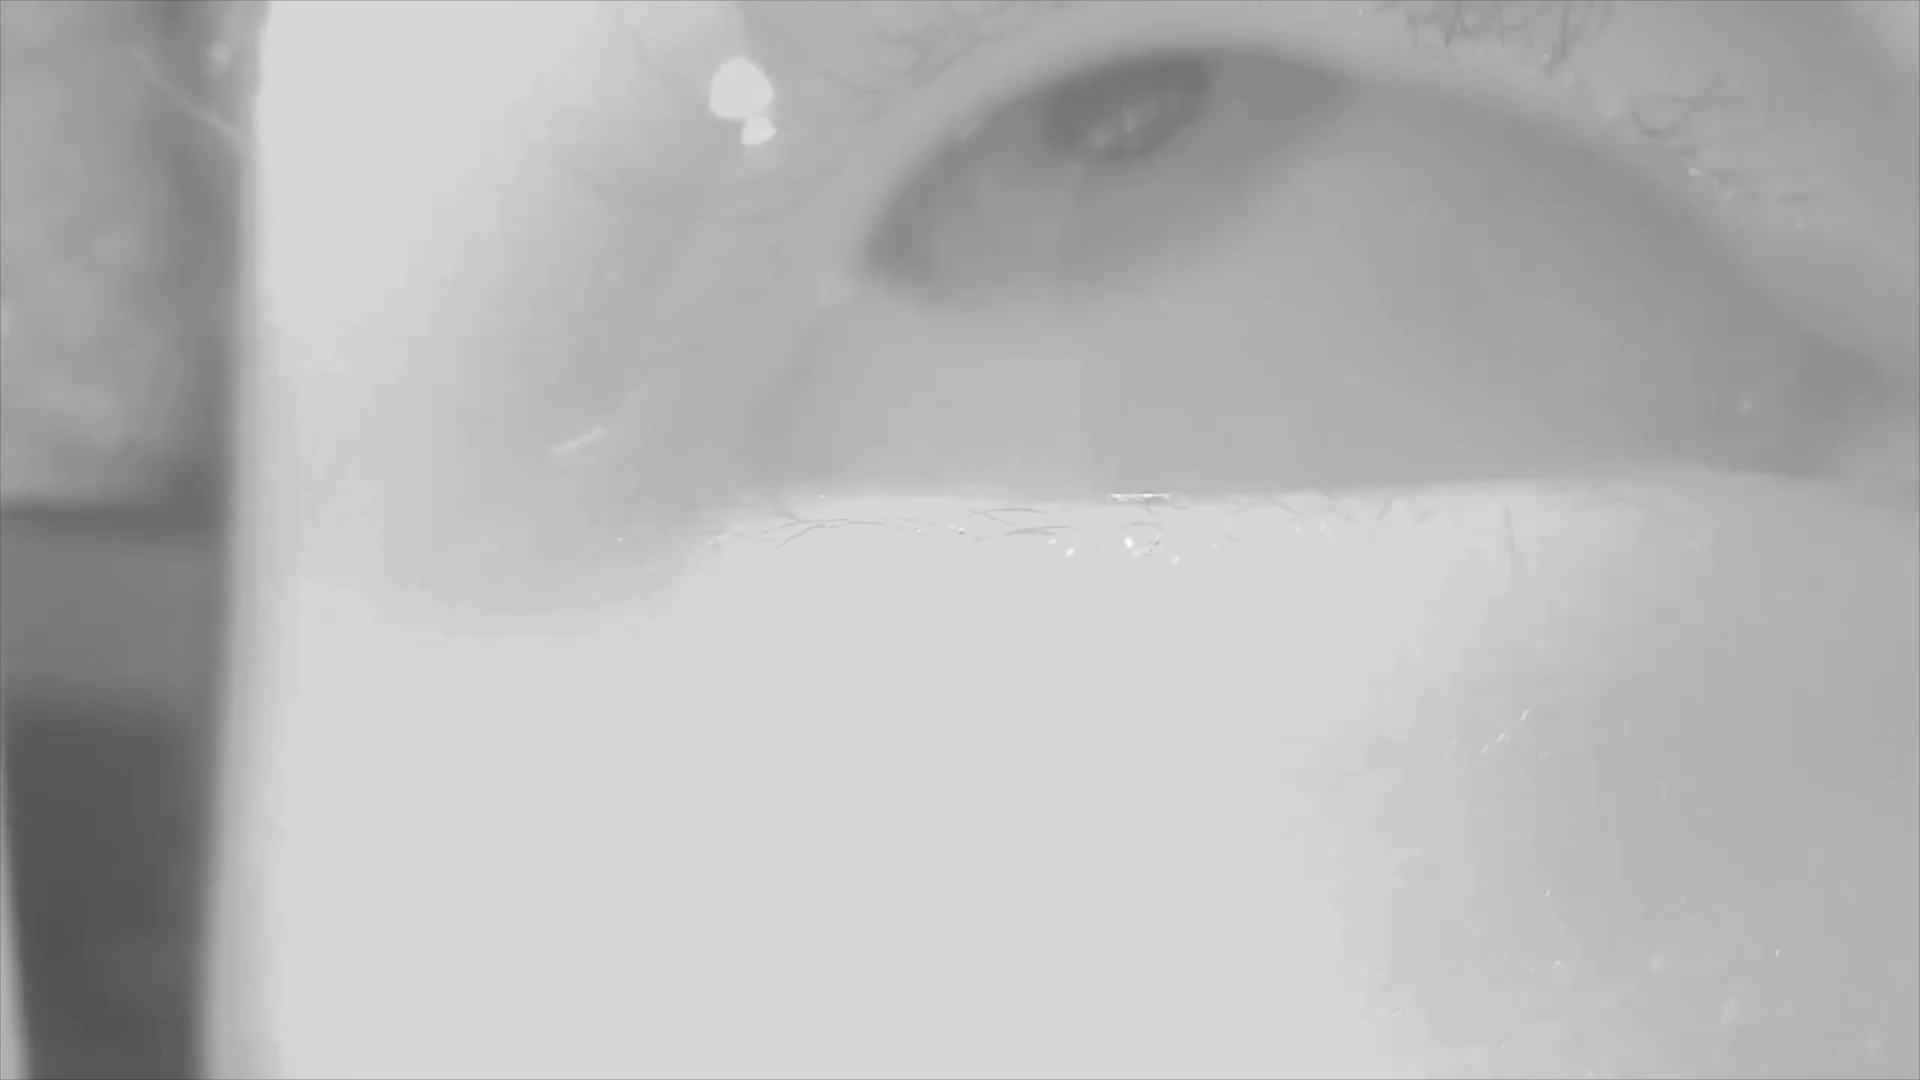pupil: (1039, 54, 1214, 158)
